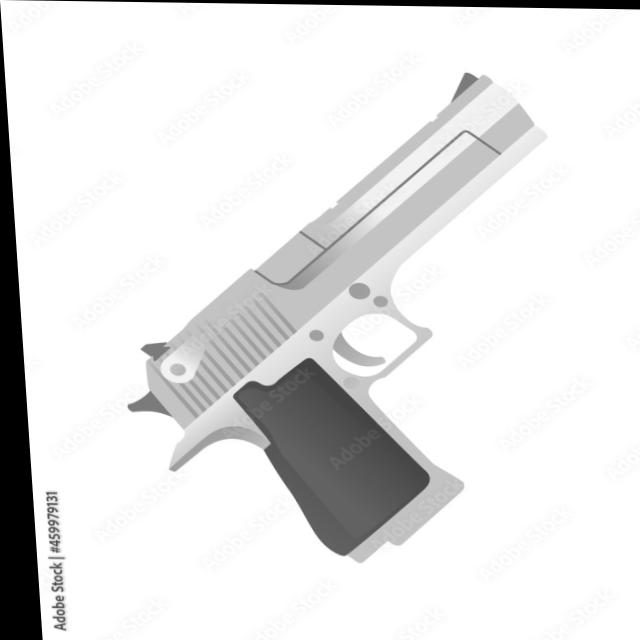handgun: (94, 59, 585, 586)
